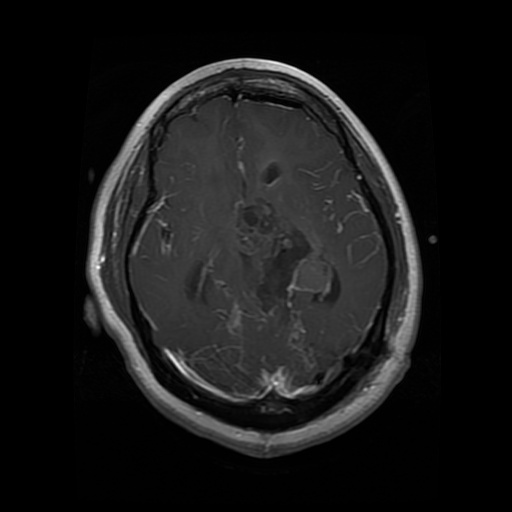glioma: (230, 196, 343, 327)
